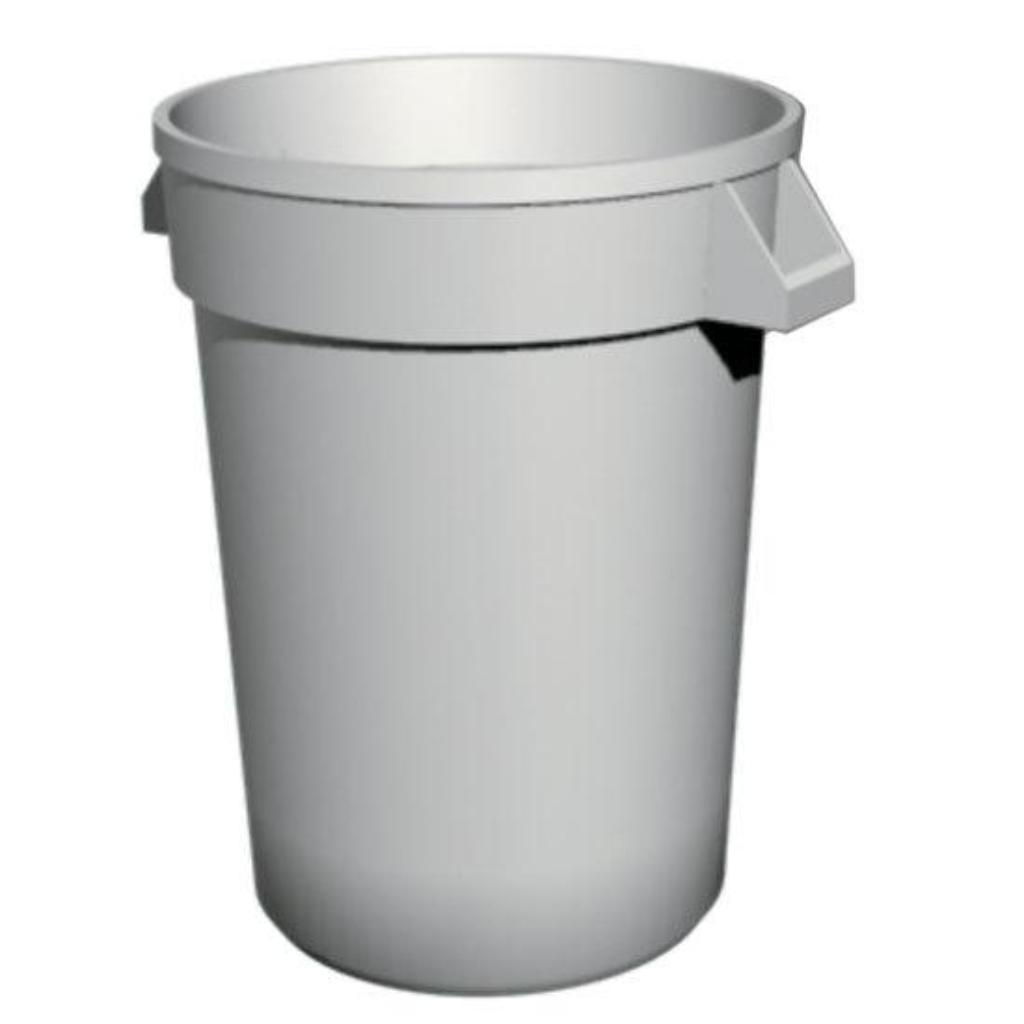dustbin: (128, 47, 864, 991)
